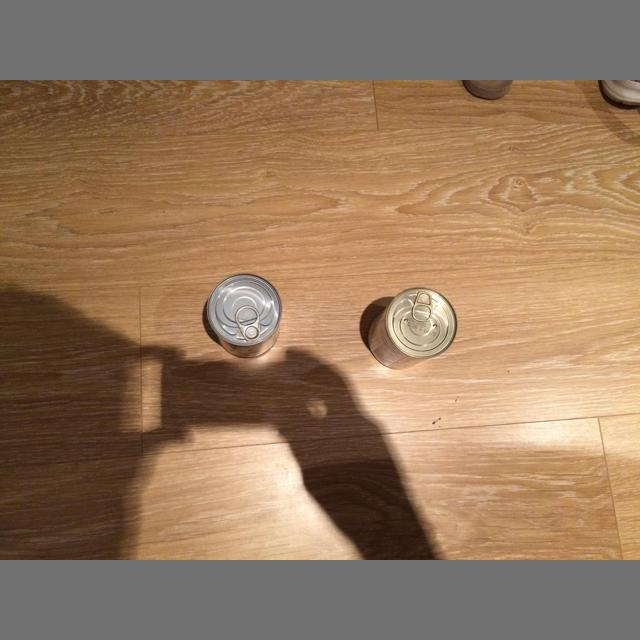litter: (368, 287, 458, 370), (207, 273, 282, 358), (235, 306, 261, 341), (412, 291, 432, 322)
